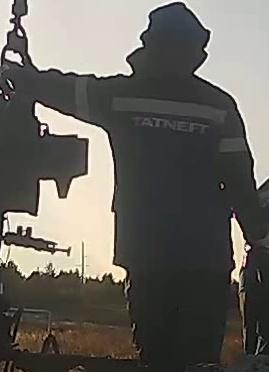vest: (78, 73, 254, 234)
